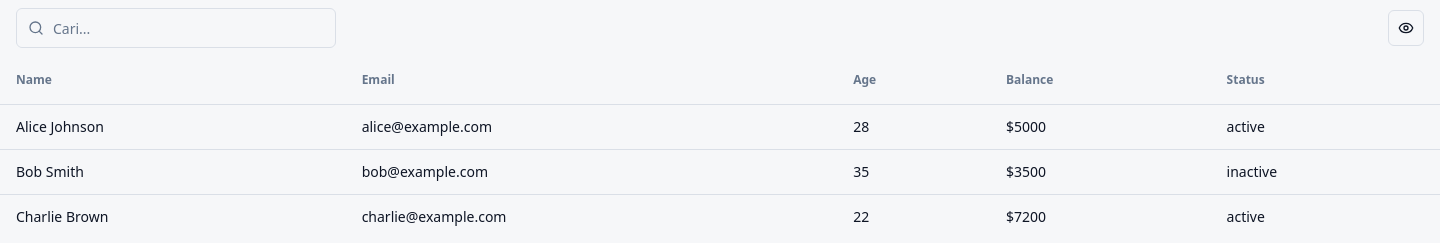
DataTable Component › Filtering/Search › should filter only specified columns when filterableColumns is set
Type "alice@example.com" into the field with placeholder "Cari..." at (176, 28), box x1=16 y1=8 x2=336 y2=48
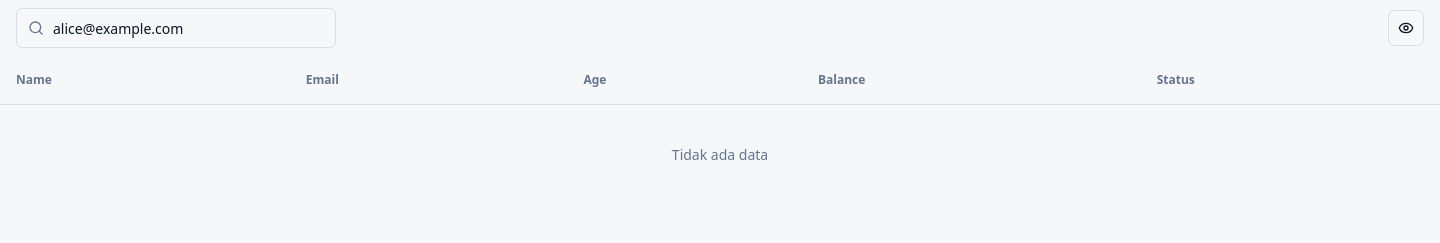
Expected: the text "Alice Johnson" is gone
